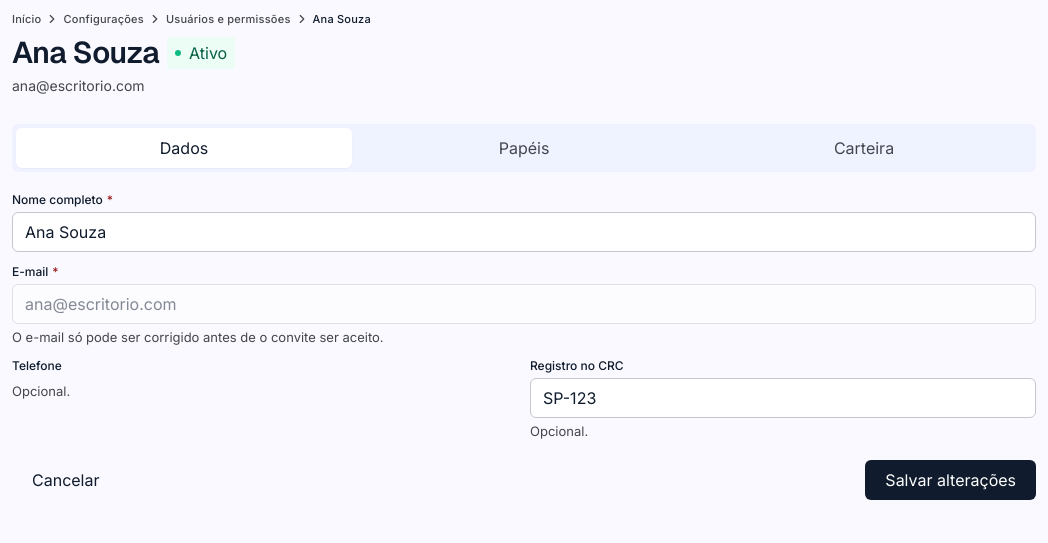
Test case: abas Dados e Papéis (administrador) › dado inválido na aba Dados leva o foco de volta e impede o envio
This screenshot has width=1048, height=543.
Step 1. Clear the field labelled "Nome completo*" → (524, 232), box [12, 212, 1036, 252]
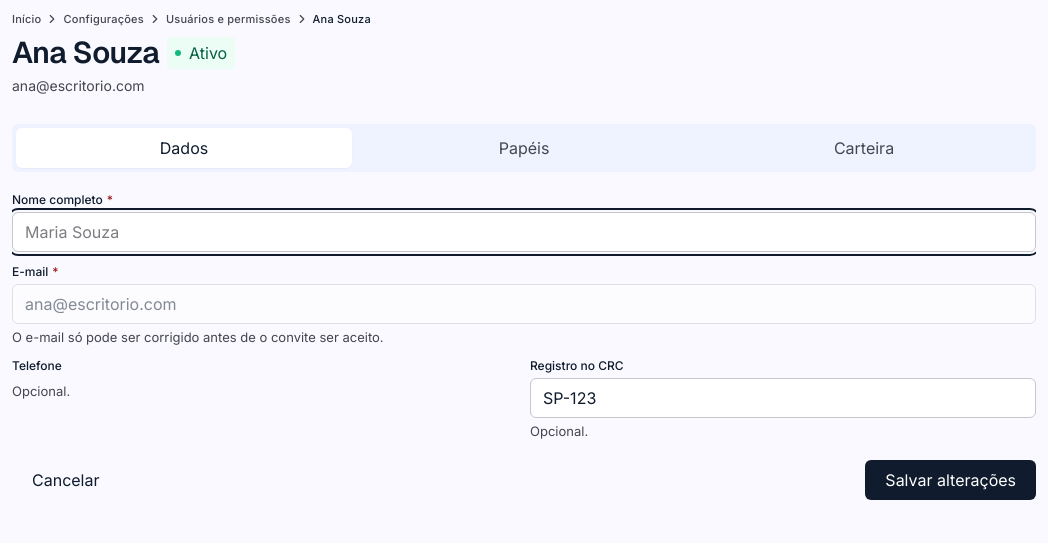
Step 2. Click the button "Salvar alterações" → (951, 480), box [865, 460, 1036, 500]
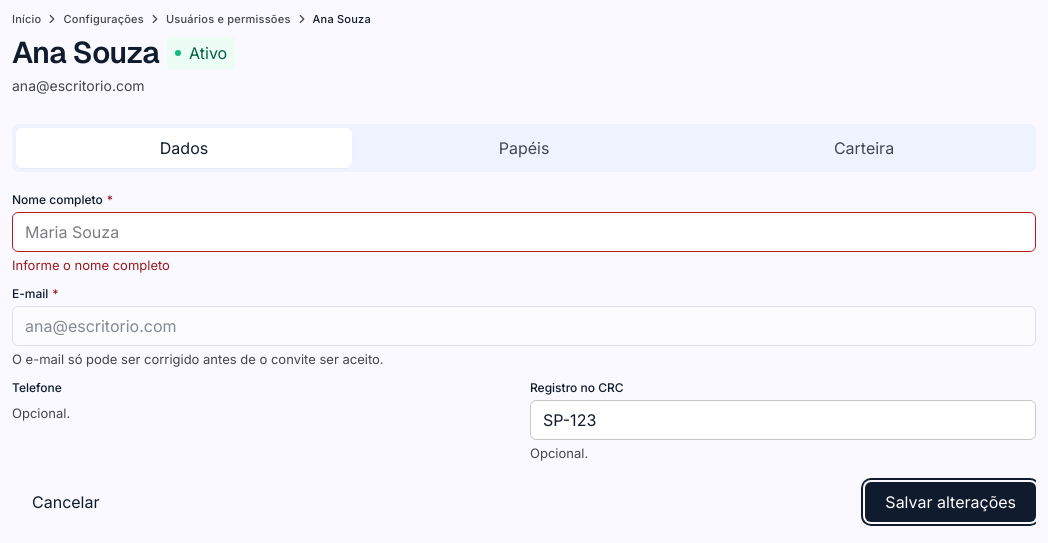
Result: the text "Informe o nome completo" is shown at [12, 257, 170, 273]
